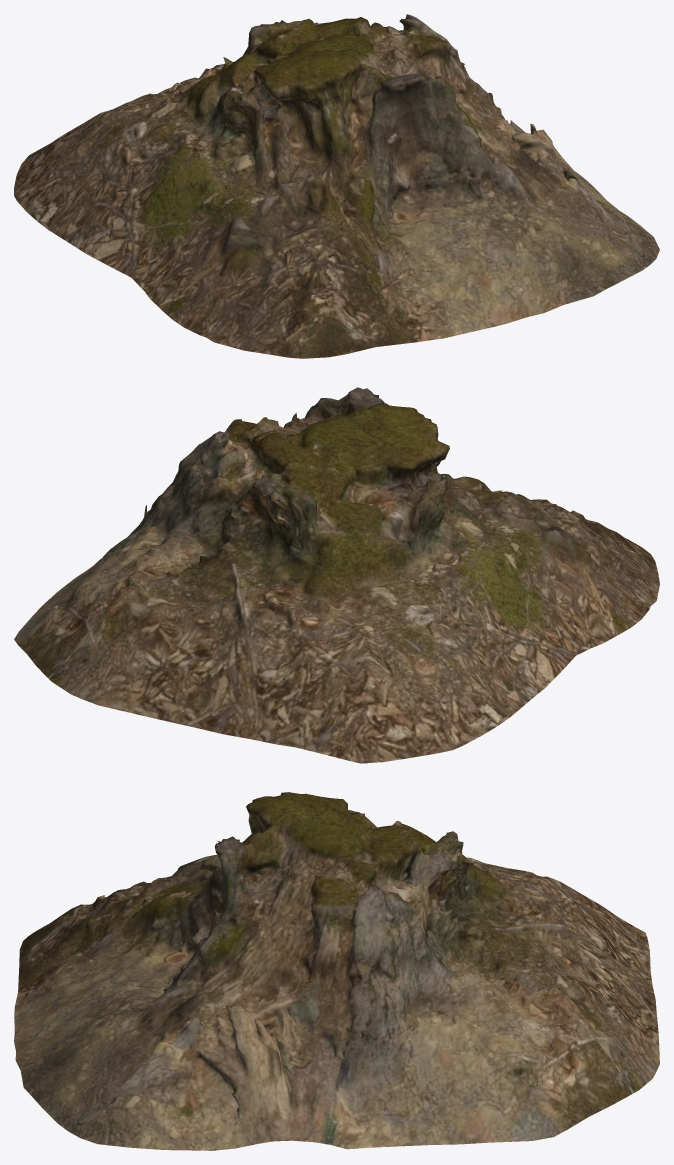
File: tree-stump.glb
The picture shows the model from 3 angles, top to bottom: view 1: azimuth 30°, elevation 25°; view 2: azimuth 150°, elevation 25°; view 3: azimuth 270°, elevation 25°; orthographic projection. The views are drawn at different scales.
Bounding box in the file's own units: 1.43 × 0.5725 × 1.59.
Materials: 1 (1 with a texture image).
